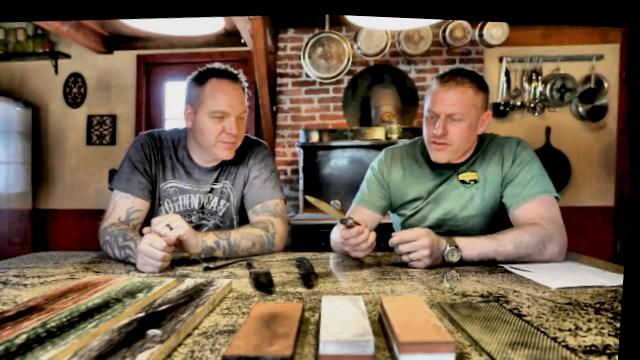knife: (299, 179, 382, 242)
